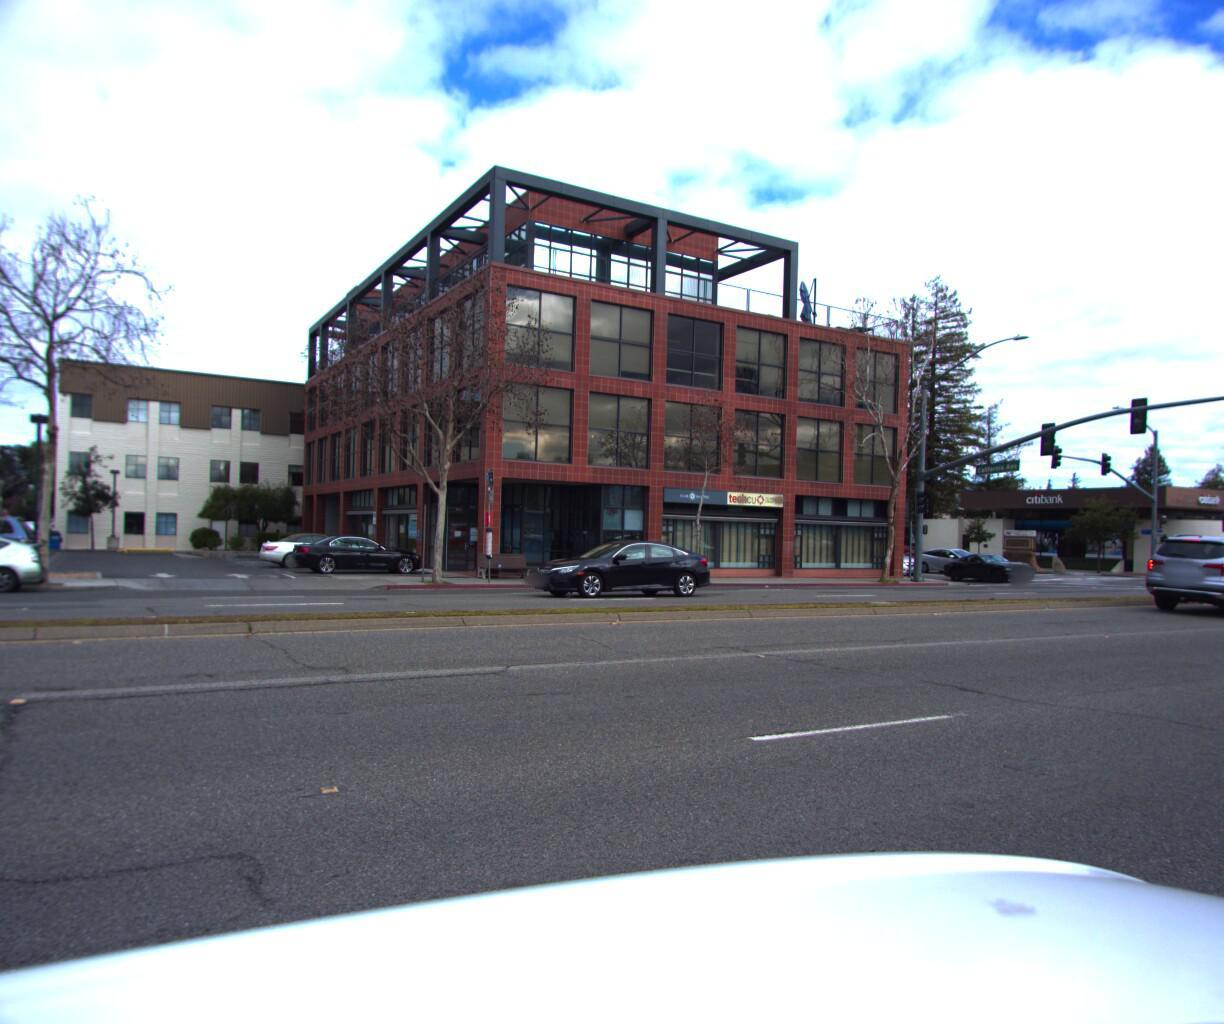car: (516, 531, 723, 599), (1128, 527, 1224, 617), (282, 525, 433, 573), (0, 522, 54, 599), (829, 537, 927, 573), (940, 546, 1040, 578), (0, 506, 45, 575), (910, 543, 996, 573)
